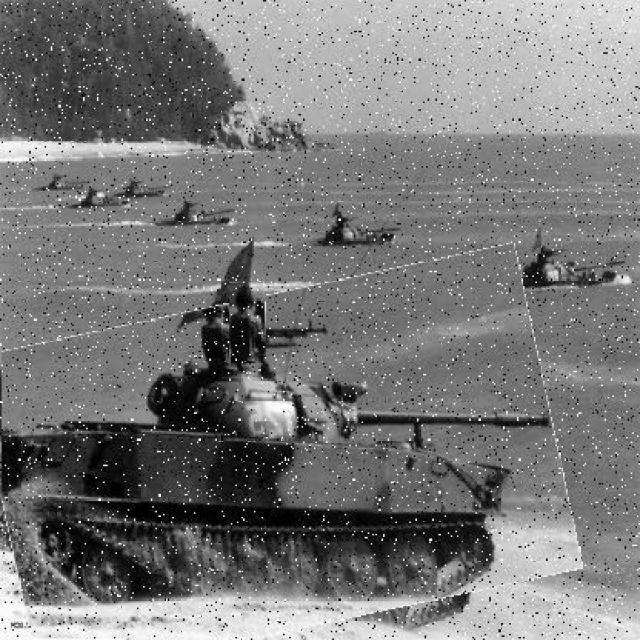Person: (229, 283, 266, 366)
Tank: (3, 271, 569, 640)
